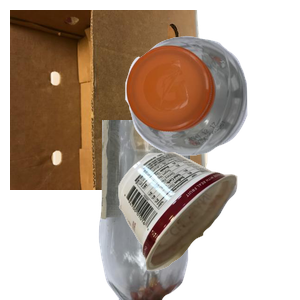cardboard: (10, 10, 211, 190)
glass: (96, 120, 283, 300)
plastic: (123, 33, 300, 181)
trash: (116, 149, 300, 300)
